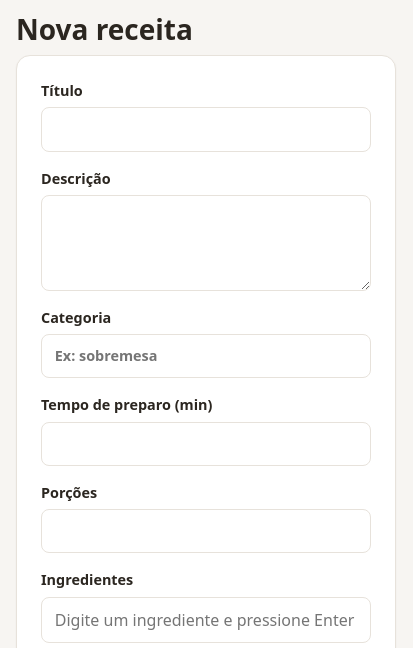
Test case: RecipeFormPage › adds an item on Enter and removes it when clicking the remove button
The image size is (413, 648).
Type "cenoura" into the field labelled "Ingredientes" at coordinates (206, 620), box [41,597,371,644]
Then press Enter
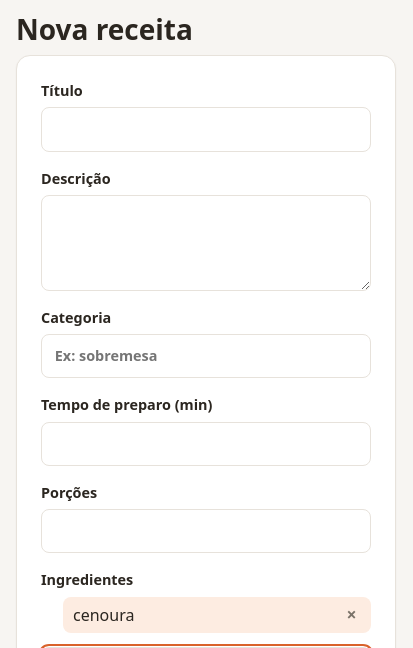
Expected: the text "cenoura" is shown, [73,603,134,627]
Click the button named "remover cenoura" at coordinates (352, 615), box [342,606,361,624]
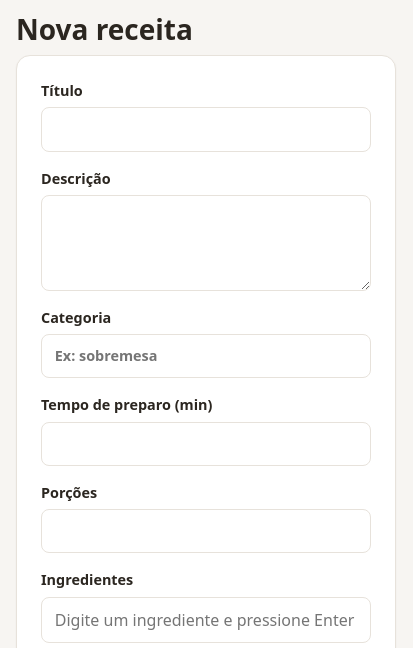
Expected: the text "cenoura" is gone
